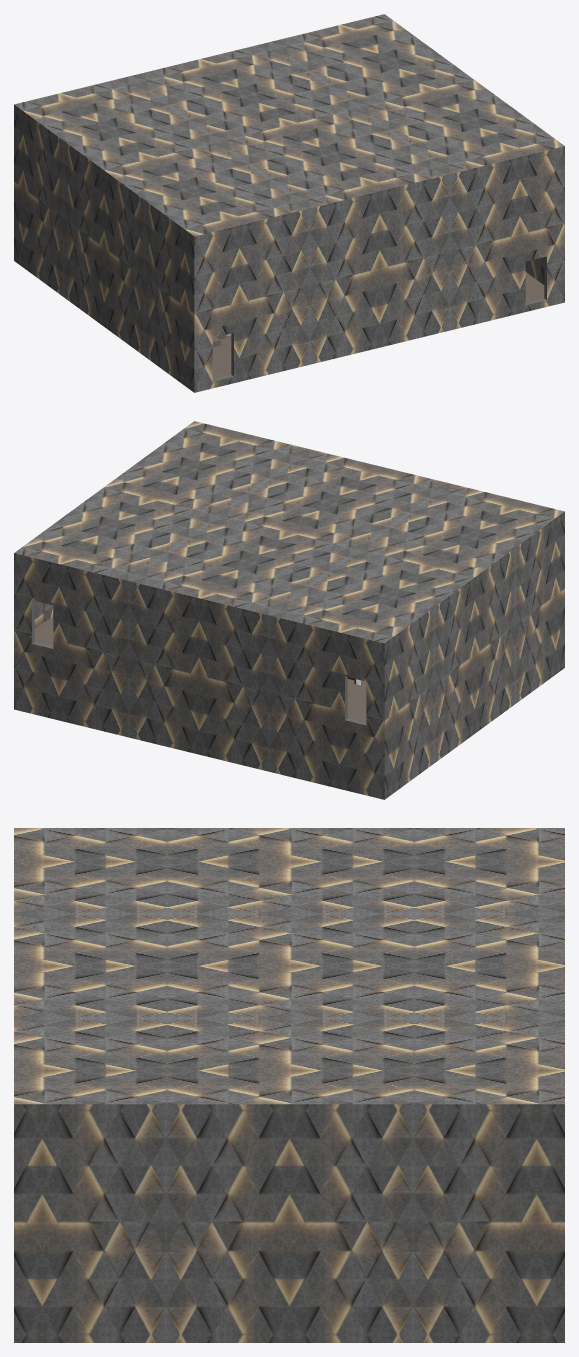
File: CinemaHall01.FBX
The picture shows the model from 3 angles, top to bottom: view 1: azimuth 30°, elevation 25°; view 2: azimuth 150°, elevation 25°; view 3: azimuth 270°, elevation 25°; orthographic projection. The views are drawn at different scales.
Visible parts, largest first — view 1: Cinema01Wall, Cinema01FloorLight; view 2: Cinema01Wall, Cinema01FloorLight; view 3: Cinema01Wall.
Boxes of the visible parts, x1,y1,x2,y2 form: Cinema01Wall: (14,14,564,392); Cinema01FloorLight: (212,272,544,378); Cinema01Wall: (14,421,564,799); Cinema01FloorLight: (34,620,366,722); Cinema01Wall: (14,828,564,1342).
Bounding box in the file's own units: 1953 × 787 × 1647.
